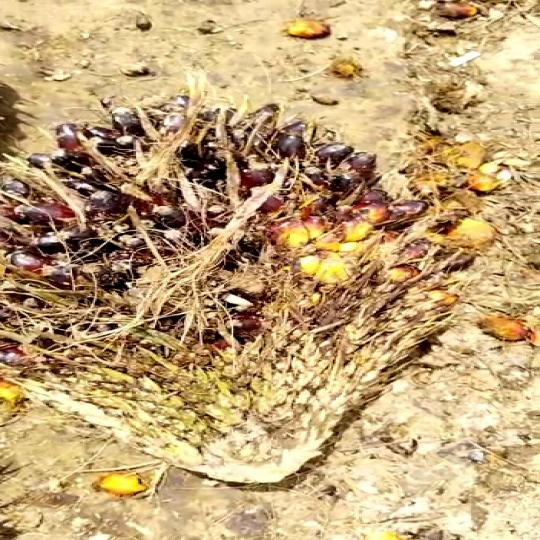mentah: (0, 93, 442, 493)
